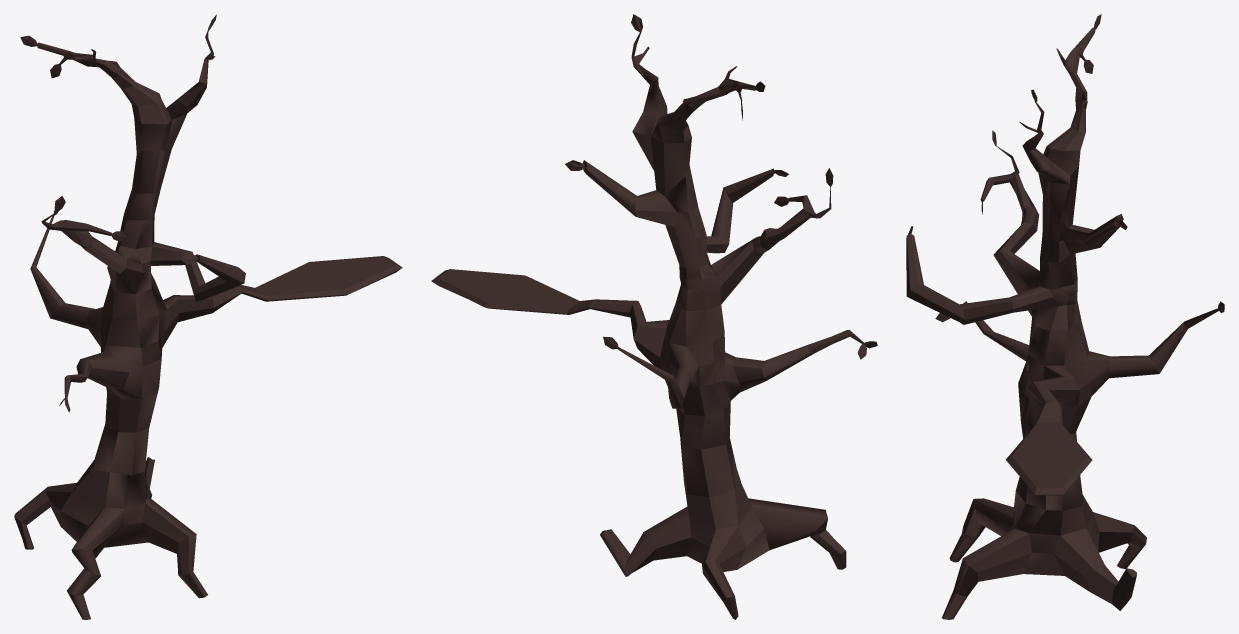
Rendered from 2. Tree I.fbx.
The picture shows the model from 3 angles, left to right: view 1: azimuth 30°, elevation 25°; view 2: azimuth 150°, elevation 25°; view 3: azimuth 270°, elevation 25°; orthographic projection. The views are drawn at different scales.
Visible parts, largest first — view 1: 2. Tree I (Ver 2); view 2: 2. Tree I (Ver 2); view 3: 2. Tree I (Ver 2).
Part boxes in pixels (<box>): 2. Tree I (Ver 2): <box>14,14,402,619</box>; 2. Tree I (Ver 2): <box>431,14,877,619</box>; 2. Tree I (Ver 2): <box>906,14,1224,619</box>.
Bounding box in the file's own units: 446 × 600 × 310.
